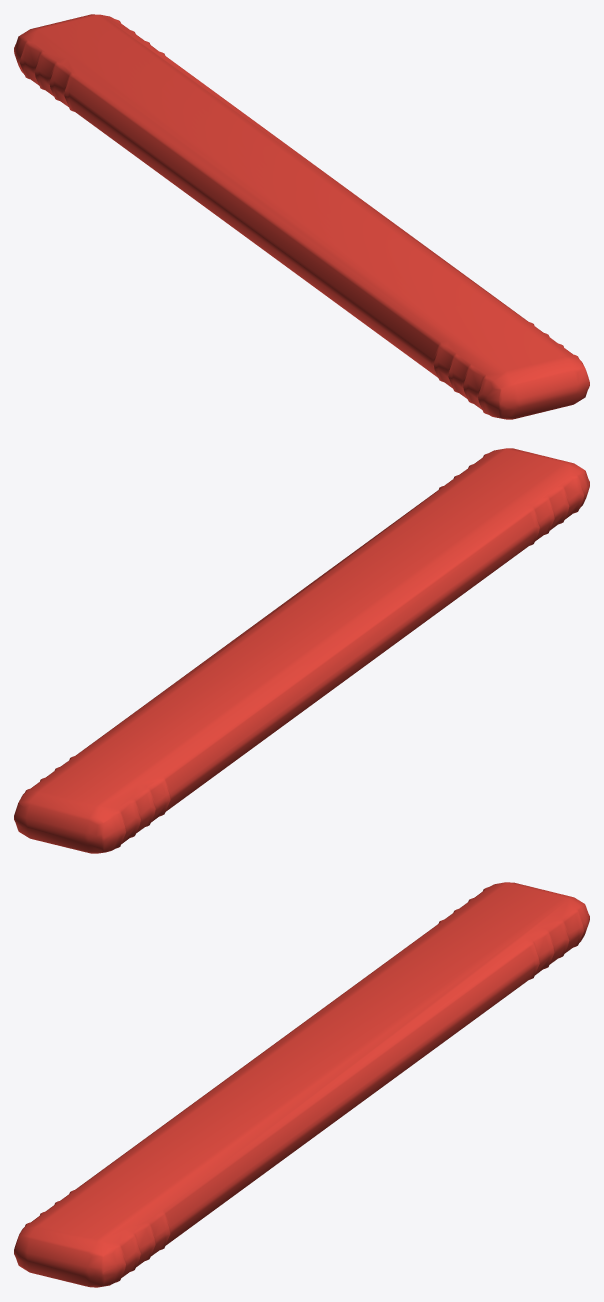
The model's file is shore_spade_handle_lod1.glb.
The picture shows the model from 3 angles, top to bottom: view 1: azimuth 30°, elevation 25°; view 2: azimuth 150°, elevation 25°; view 3: azimuth 330°, elevation 25°; orthographic projection.
Parts seen in each view (by area): view 1: shore_spade_handle.001; view 2: shore_spade_handle.001; view 3: shore_spade_handle.001.
Part boxes in pixels (box(x1,y1,x2,y2)): shore_spade_handle.001: box(14, 14, 589, 419); shore_spade_handle.001: box(14, 448, 589, 853); shore_spade_handle.001: box(14, 882, 589, 1287).
Bounding box in the file's own units: 3.73 × 1.6 × 30.
